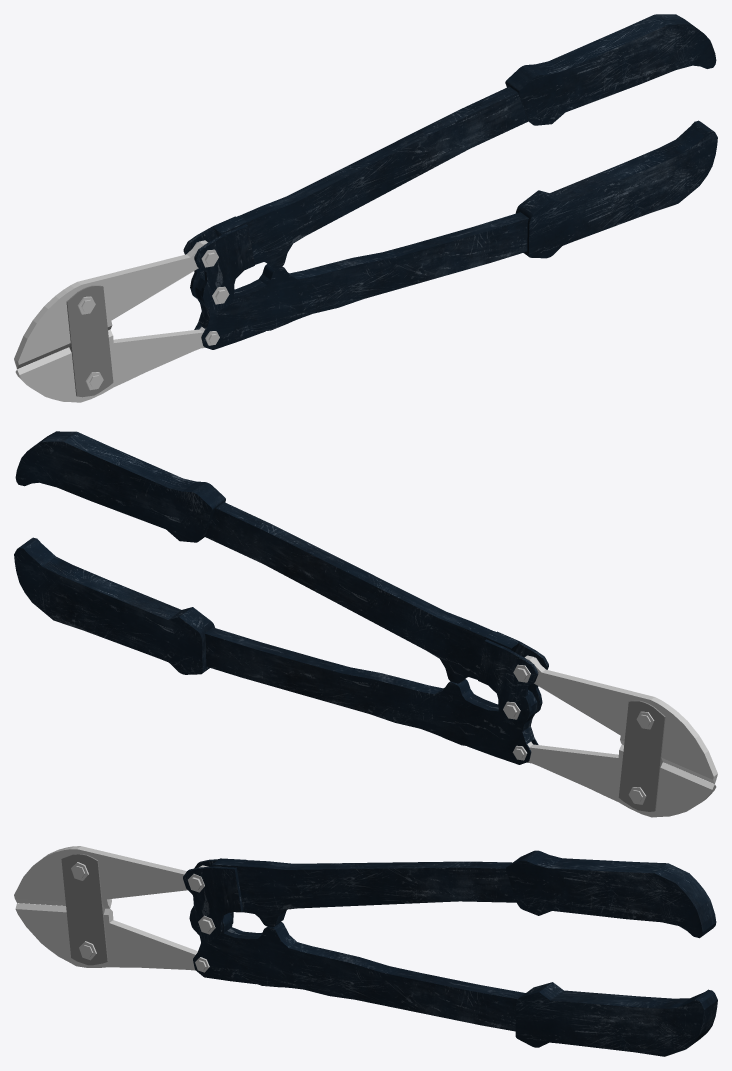
The model's file is Keski.fbx.
3 renders of one model, top to bottom at view 1: azimuth 30°, elevation 25°; view 2: azimuth 150°, elevation 25°; view 3: azimuth 330°, elevation 25°, orthographic.
Parts seen in each view (by area): view 1: Üst Kısım, Alt Kısım, Üst Kesici, Alt Kesici, Cube; view 2: Üst Kısım, Alt Kısım, Üst Kesici, Alt Kesici, Cube; view 3: Üst Kısım, Alt Kısım, Üst Kesici, Alt Kesici, Cube.
Boxes of the visible parts, x1,y1,x2,y2 form: Üst Kısım: [183, 14, 716, 310]; Alt Kısım: [194, 120, 717, 349]; Üst Kesici: [14, 240, 207, 368]; Alt Kesici: [15, 327, 205, 402]; Cube: [66, 285, 113, 397]; Üst Kısım: [15, 431, 548, 725]; Alt Kısım: [14, 537, 538, 764]; Üst Kesici: [524, 655, 717, 783]; Alt Kesici: [527, 742, 716, 817]; Cube: [618, 700, 665, 811]; Üst Kısım: [183, 850, 716, 939]; Alt Kısım: [193, 912, 717, 1056]; Üst Kesici: [14, 846, 208, 908]; Alt Kesici: [15, 903, 197, 970]; Cube: [61, 854, 108, 965].
Bounding box in the file's own units: 454 × 149 × 18.83.
